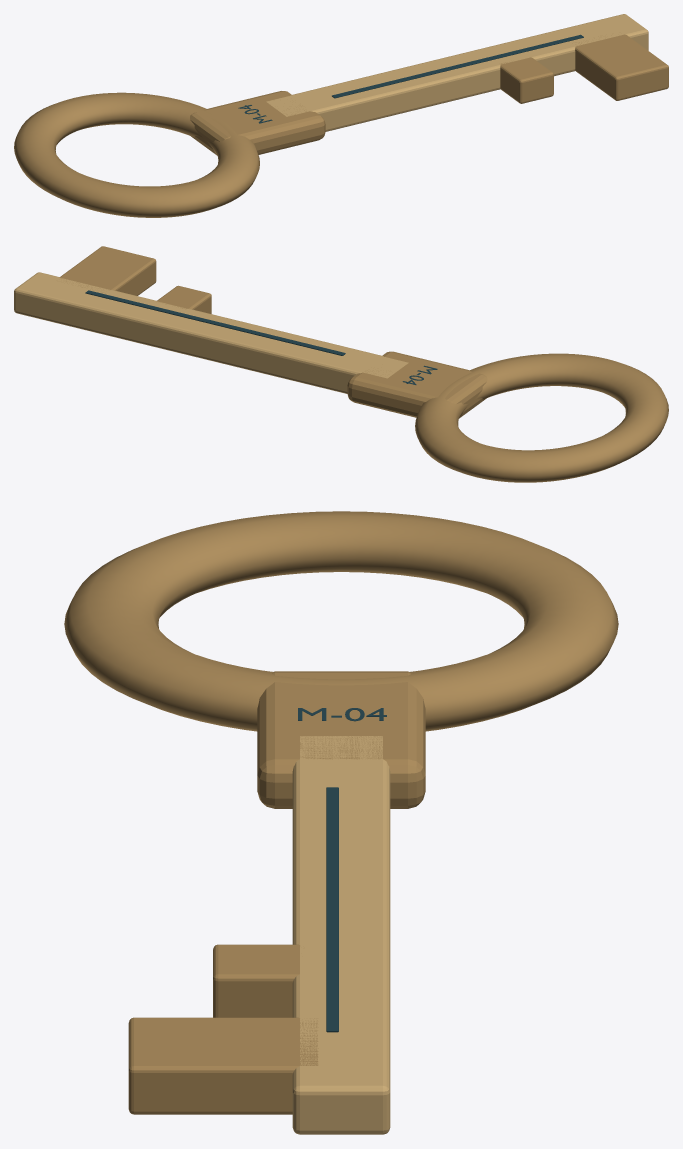
File: key.glb
3 renders of one model, top to bottom at view 1: azimuth 30°, elevation 25°; view 2: azimuth 150°, elevation 25°; view 3: azimuth 270°, elevation 25°, orthographic. The views are drawn at different scales.
Parts seen in each view (by area): view 1: Key pierced oval bow, Key shaft, Key shoulder, Ward A, Ward B, Key milled channel; view 2: Key pierced oval bow, Key shaft, Key shoulder, Ward A, Key milled channel, Ward B; view 3: Key pierced oval bow, Key shaft, Ward A, Key shoulder, Ward B, Key milled channel.
Part boxes in pixels (<box>): Key pierced oval bow: <box>14,92,259,217</box>; Key shaft: <box>266,14,648,131</box>; Key shoulder: <box>190,91,325,155</box>; Ward A: <box>572,34,668,100</box>; Ward B: <box>500,57,553,103</box>; Key milled channel: <box>332,34,583,98</box>; Key pierced oval bow: <box>415,353,668,482</box>; Key shaft: <box>14,272,408,393</box>; Key shoulder: <box>347,351,487,418</box>; Ward A: <box>60,246,156,295</box>; Key milled channel: <box>85,290,345,355</box>; Ward B: <box>157,285,211,313</box>; Key pierced oval bow: <box>64,511,618,731</box>; Key shaft: <box>292,736,390,1134</box>; Ward A: <box>128,1017,318,1114</box>; Key shoulder: <box>257,671,425,808</box>; Ward B: <box>213,944,299,1017</box>; Key milled channel: <box>326,787,338,1032</box>.
Size of the model in its own units: 0.157 by 0.00642 by 0.0625.
